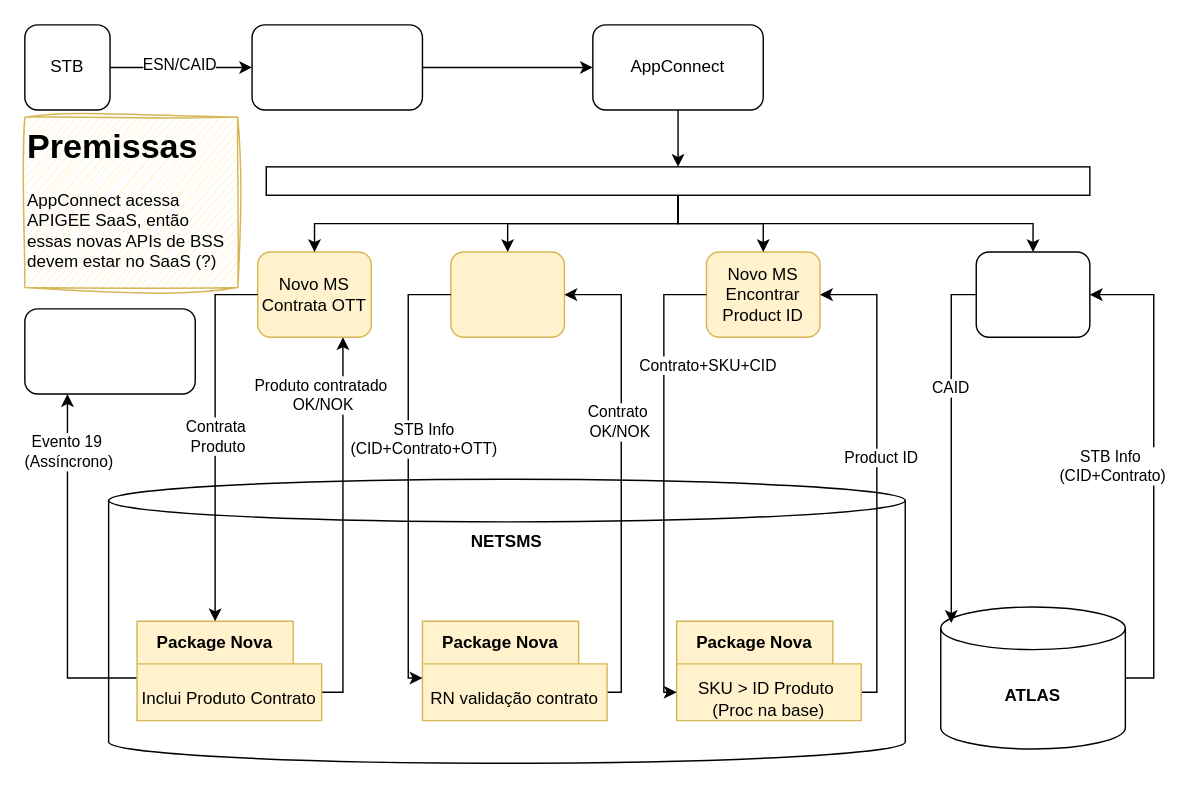
This 1190x788 diagram has some shape labels left out. Each missing label, with the centre of its shape:
"APIGEE" belongs at point 677,180.
"Atlas Inventário" belongs at point 1032,294.
"Novo MS Elegibilidade" belongs at point 506,294.
"Parceiro (NETFLIX)" belongs at point 336,66.
"STW" belongs at point 109,350.
